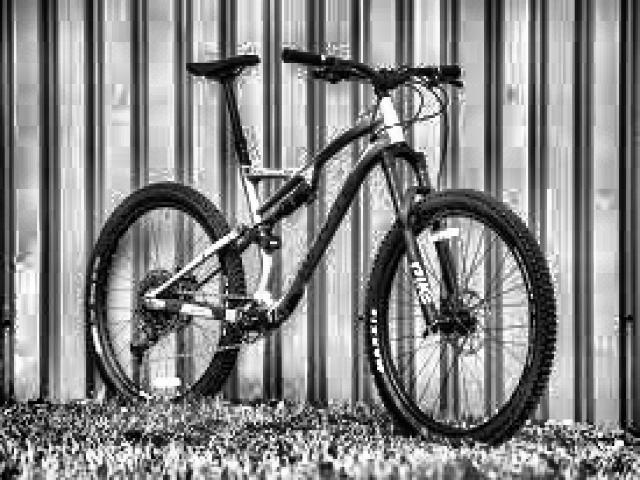cranks_set: (234, 296, 282, 346)
rear_derailleur: (128, 314, 160, 368)
saddle: (184, 50, 262, 81)
wheel: (362, 190, 561, 447), (85, 184, 246, 403)
